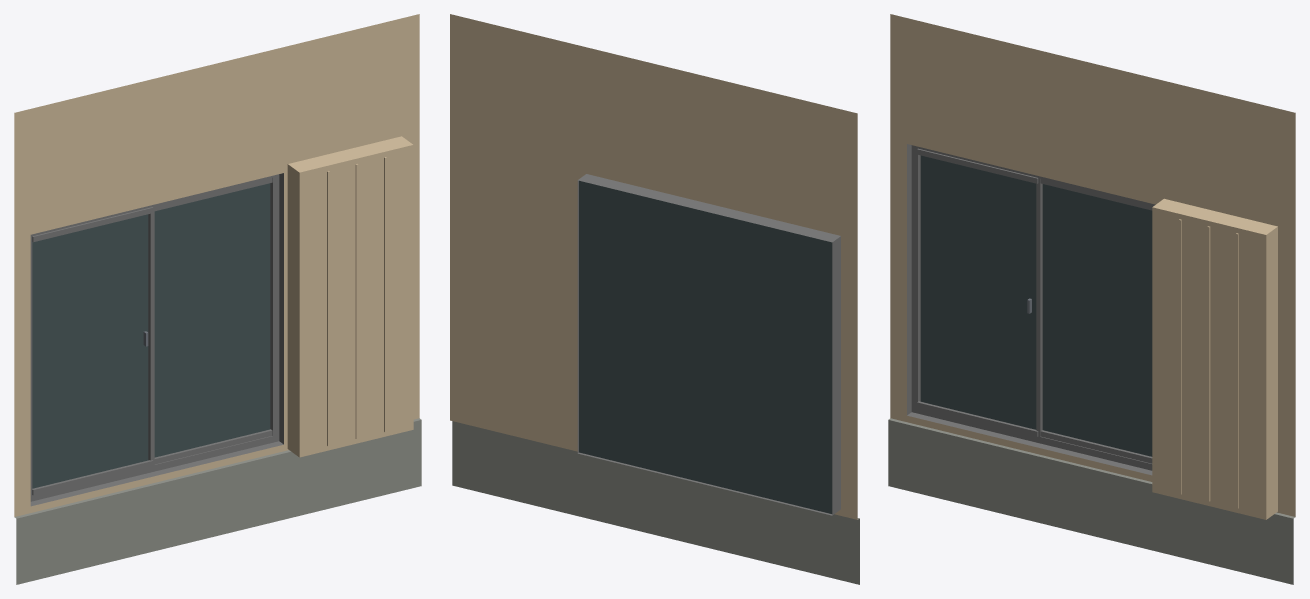
Rendered from base-w3_close.fbx.
3 views of the same model, side by side, from view 1: azimuth 30°, elevation 25°; view 2: azimuth 150°, elevation 25°; view 3: azimuth 330°, elevation 25° (orthographic).
Visible parts, largest first — view 1: a2000/400/base-w3_close; view 2: a2000/400/base-w3_close; view 3: a2000/400/base-w3_close.
Boxes of the visible parts, x1,y1,x2,y2 form: a2000/400/base-w3_close: (14, 14, 421, 584); a2000/400/base-w3_close: (450, 14, 859, 584); a2000/400/base-w3_close: (888, 14, 1295, 584).
Bounding box in the file's own units: 3.2 × 3.55 × 0.292.
